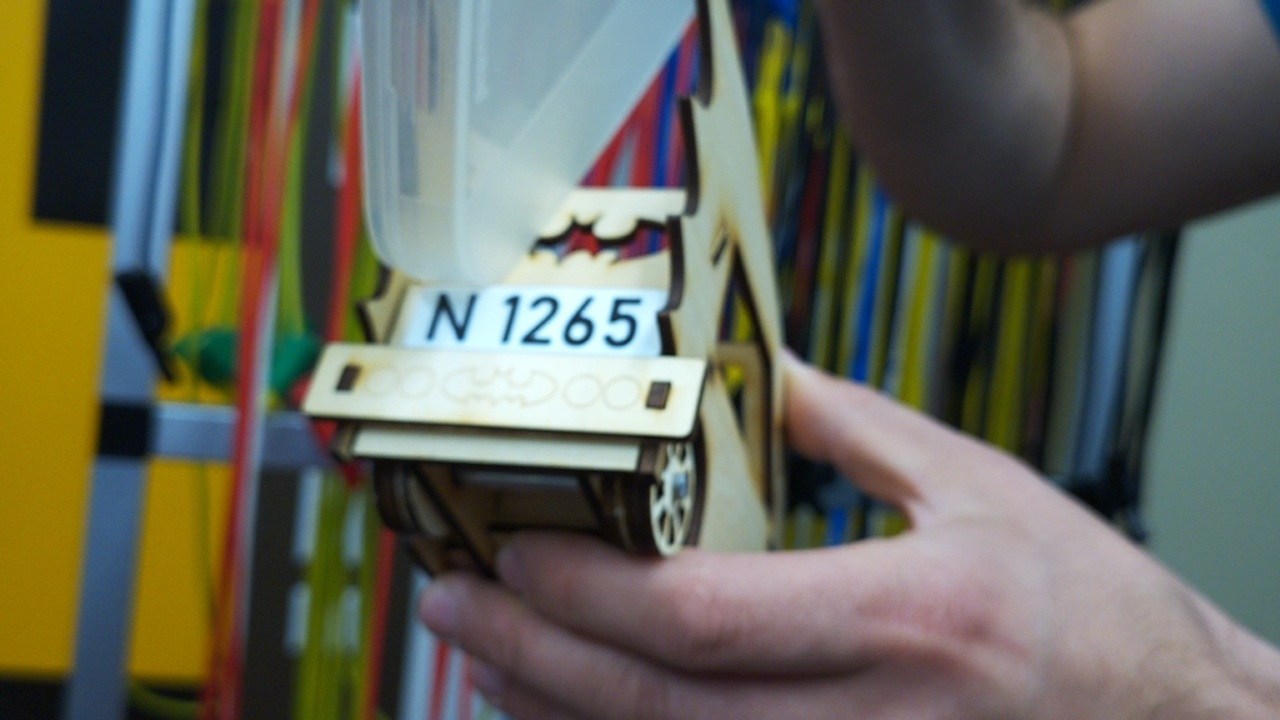license_plate: (406, 285, 678, 356)
